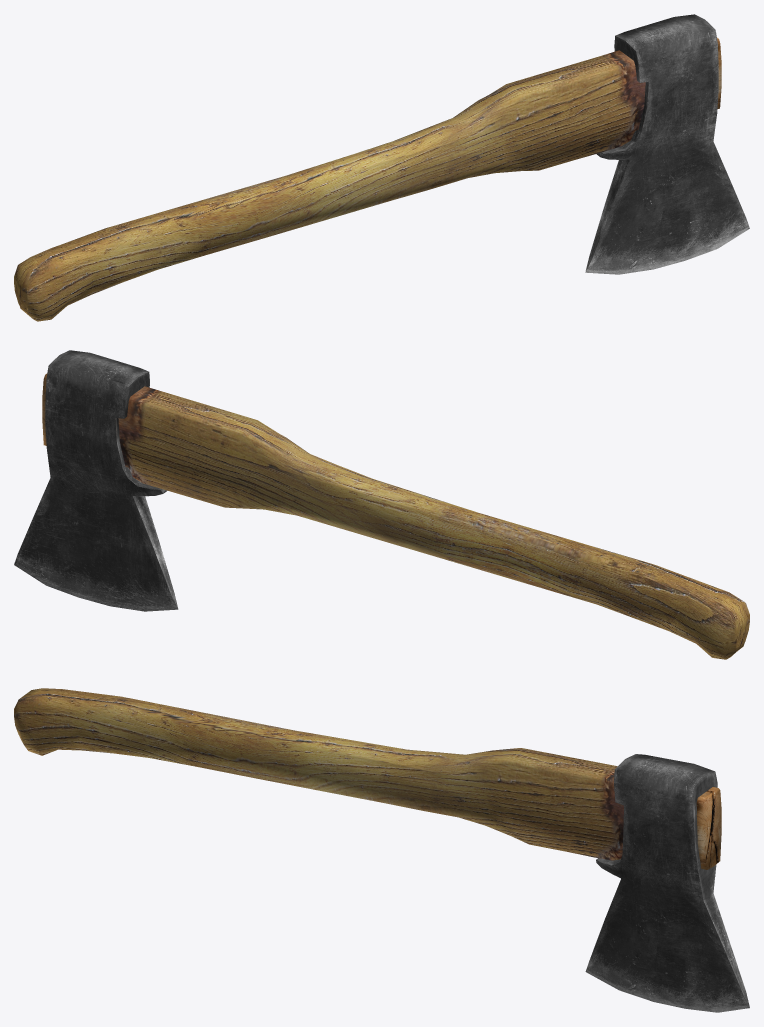
File: AxeOnly.dae
3 views of the same model, one above another, from view 1: azimuth 30°, elevation 25°; view 2: azimuth 150°, elevation 25°; view 3: azimuth 330°, elevation 25° (orthographic).
Parts seen in each view (by area): view 1: Axe; view 2: Axe; view 3: Axe.
Boxes of the visible parts, <box> form: Axe: <box>14,14,749,321</box>; Axe: <box>14,350,749,659</box>; Axe: <box>14,688,749,1012</box>.
Size of the model in its own units: 8.19 by 0.4753 by 2.57.
Materials: 1 (1 with a texture image).
